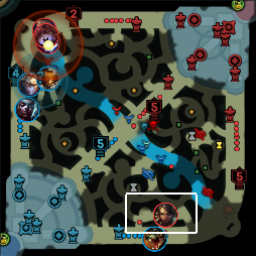bard: (38, 67, 57, 88)
draven: (33, 18, 56, 42)
ekko: (15, 98, 38, 120)
ezreal: (18, 72, 39, 96)
lulu: (32, 23, 55, 47)
nidalee: (154, 203, 175, 226)
renekton: (143, 227, 165, 250)
